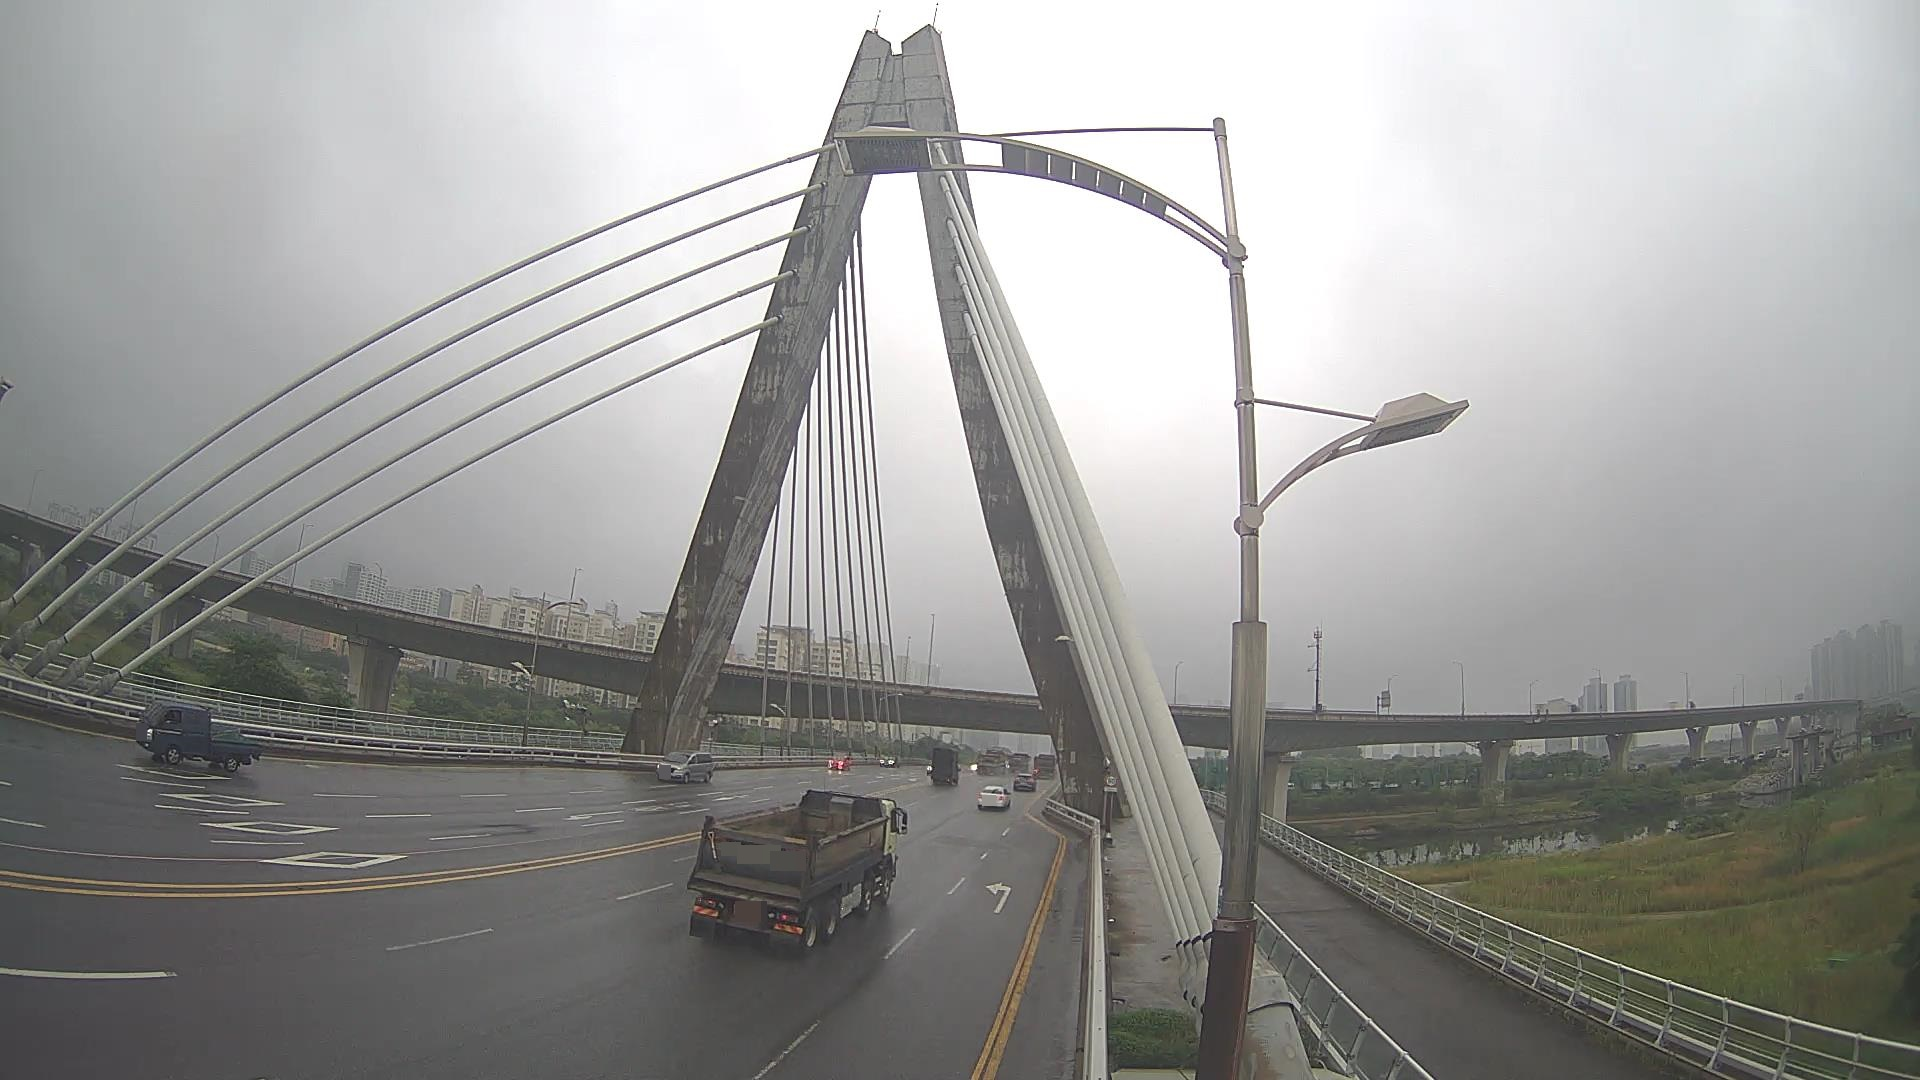정상차량: (686, 789, 909, 956)
